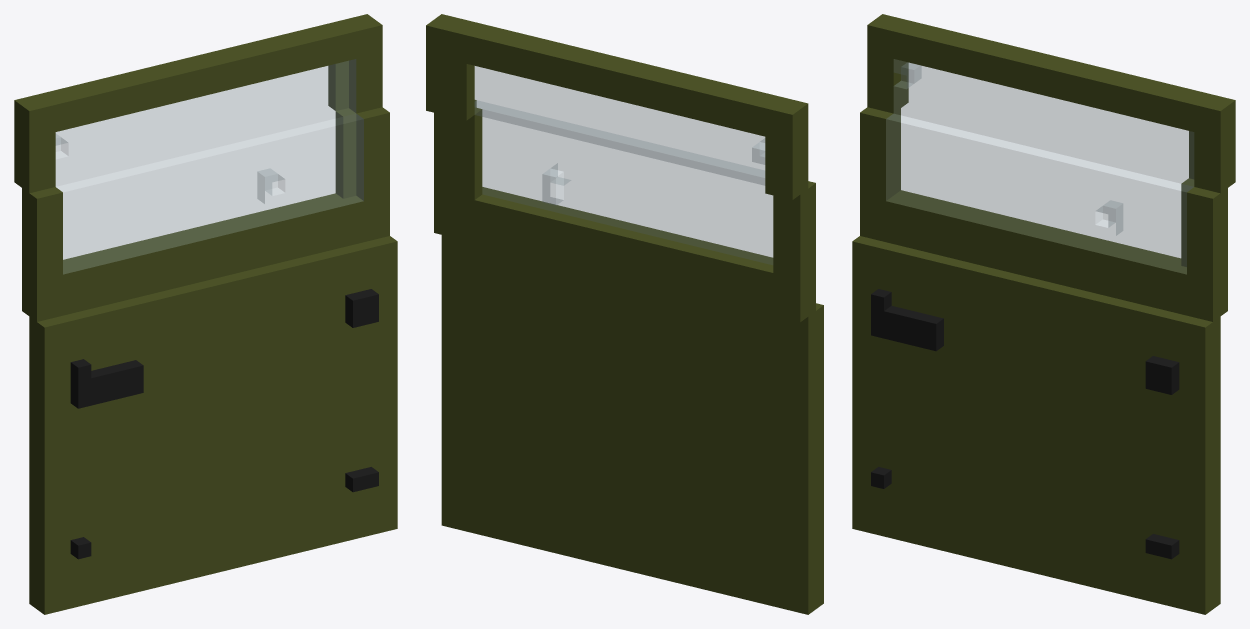
File: utility_4x4_rear_door.glb
3 renders of one model, left to right at view 1: azimuth 30°, elevation 25°; view 2: azimuth 150°, elevation 25°; view 3: azimuth 330°, elevation 25°, orthographic. The views are drawn at different scales.
Visible parts, largest first — view 1: body:compound; view 2: body:compound; view 3: body:compound.
Boxes of the visible parts, left/top/right/bottom form: body:compound: left=14, top=14, right=397, bottom=614; body:compound: left=426, top=14, right=823, bottom=614; body:compound: left=852, top=14, right=1235, bottom=614.
Size of the model in its own units: 0.8438 by 1.12 by 0.1562.
